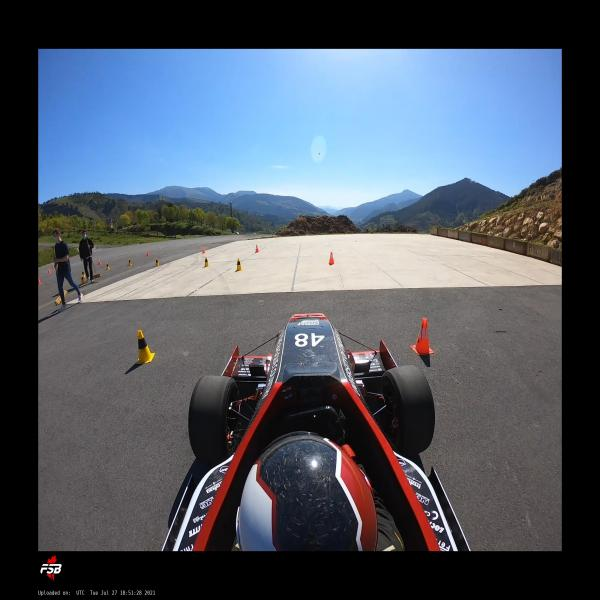orange_cone: (410, 318, 434, 355), (328, 252, 335, 264), (255, 245, 259, 253), (146, 250, 150, 257), (202, 247, 205, 254), (98, 258, 101, 265), (38, 278, 40, 284), (48, 270, 50, 274), (52, 267, 55, 268)
yellow_cone: (135, 330, 155, 364), (236, 258, 243, 271), (204, 257, 209, 267), (82, 270, 87, 278), (156, 258, 160, 267), (106, 262, 110, 270), (128, 258, 132, 266), (82, 275, 85, 284)
